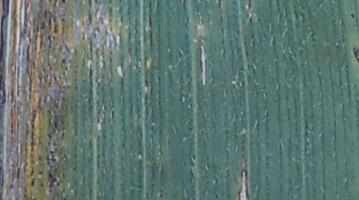tarspot: (352, 48, 359, 62), (49, 177, 59, 184), (59, 57, 67, 64), (350, 12, 356, 20), (59, 1, 68, 5)
